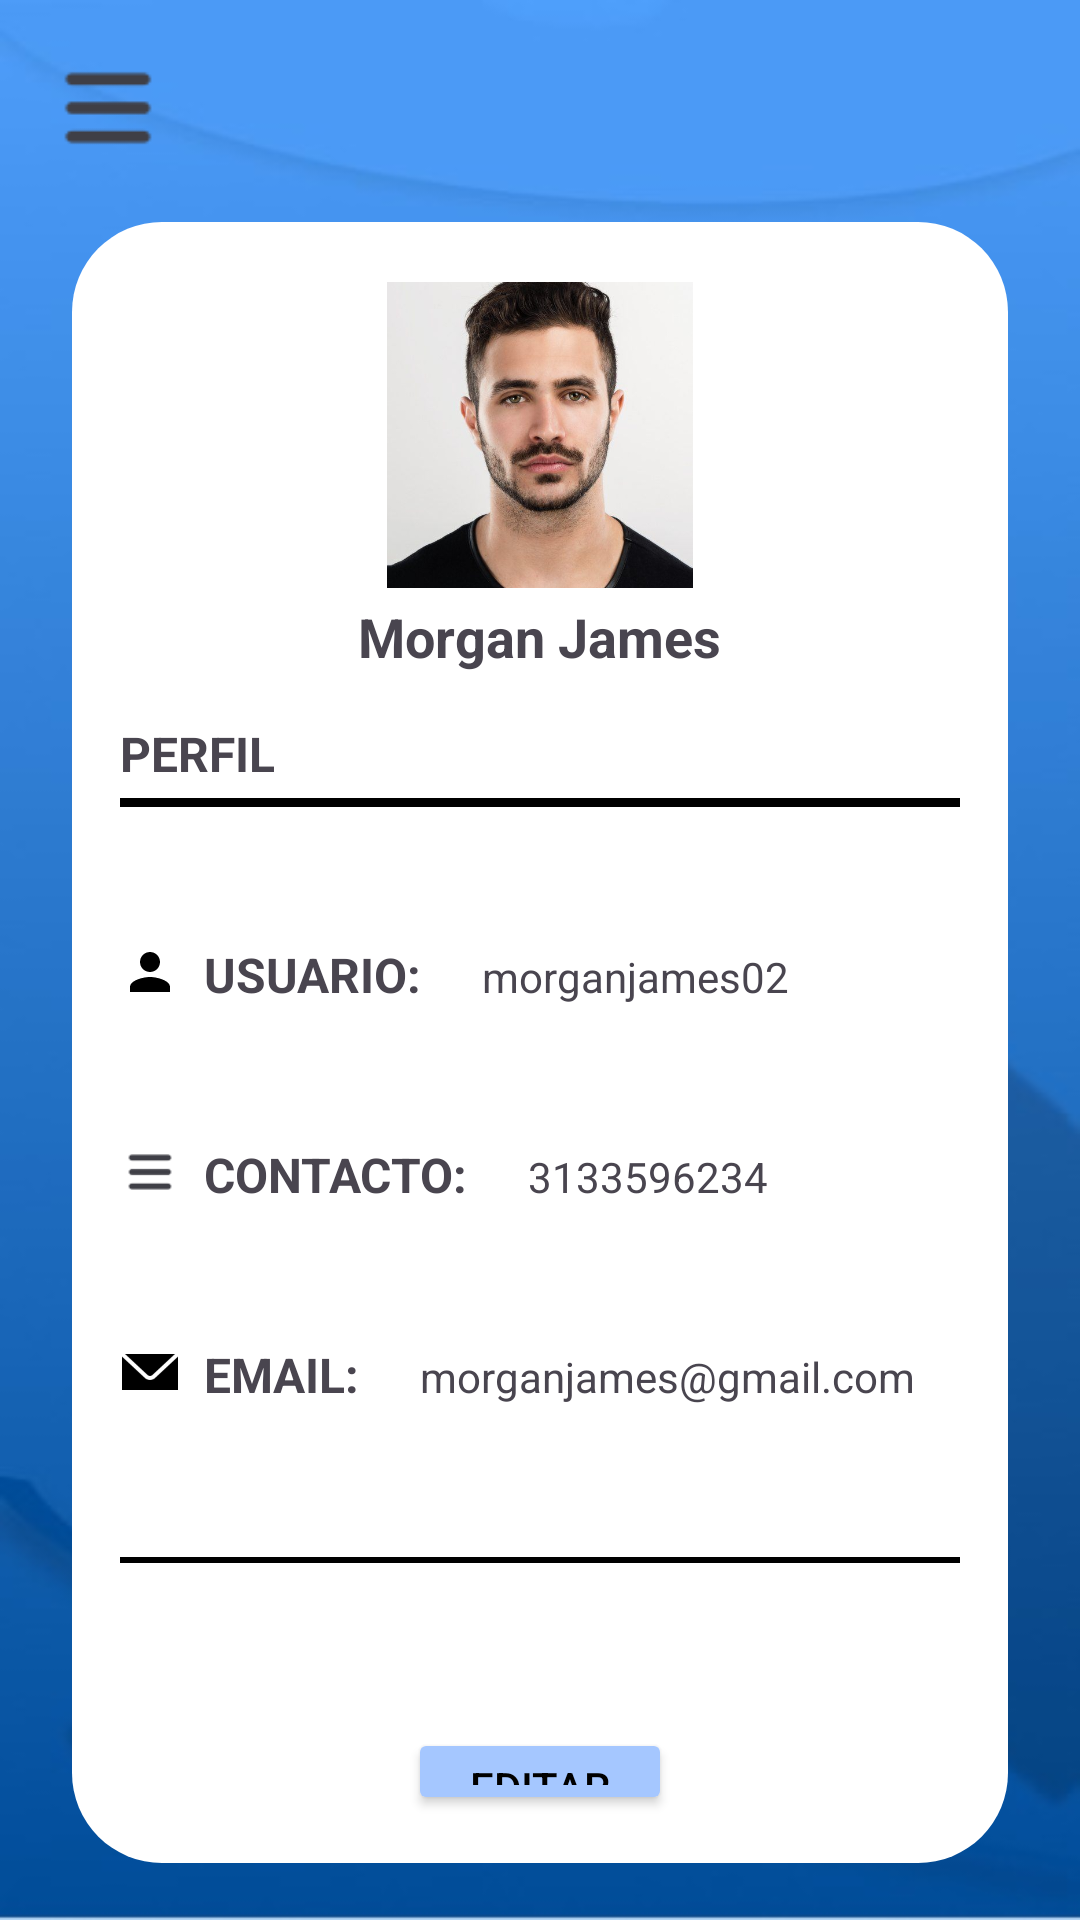

Named icons in this screenshot (1080w x 1920h) and their centers, point (x, y):
Menú: point (108, 108)
user: point (150, 972)
